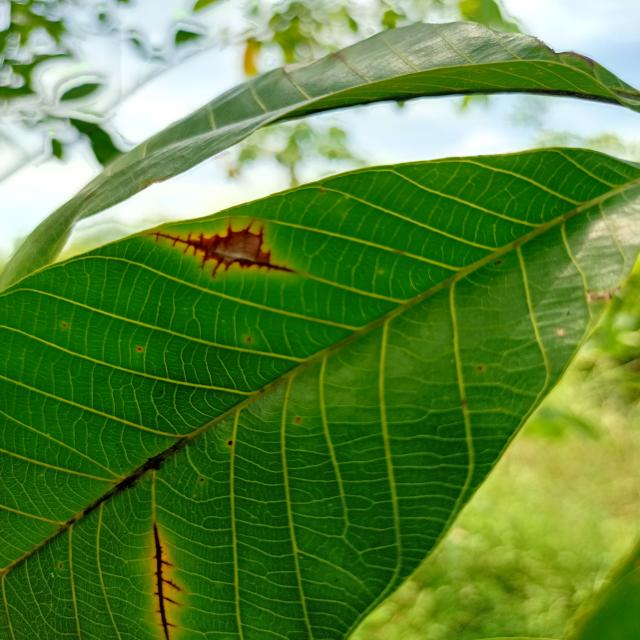Colletotrichum: (228, 440, 233, 446)
Corynespora: (147, 218, 295, 278), (151, 522, 186, 640)
